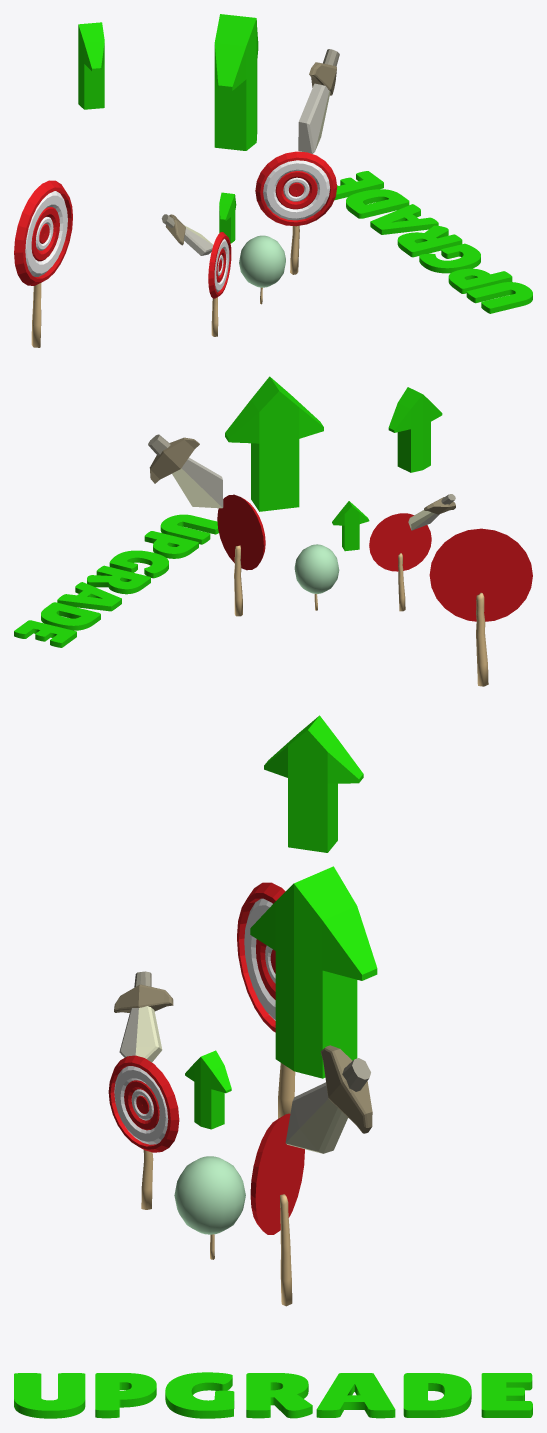
The model's file is Upgrade.fbx.
The picture shows the model from 3 angles, top to bottom: view 1: azimuth 30°, elevation 25°; view 2: azimuth 150°, elevation 25°; view 3: azimuth 270°, elevation 25°; orthographic projection. The views are drawn at different scales.
Visible parts, largest first — view 1: upgrade, arrow green, target2, target, sword2, arrow green.001, tree, target1, sword1, arrow green.002; view 2: target, upgrade, arrow green, sword2, target2, target1, arrow green.001, tree, arrow green.002, sword1; view 3: upgrade, arrow green, arrow green.001, sword2, target1, target2, target, tree, sword1, arrow green.002.
Boxes of the visible parts, box(x1,y1,x2,y2) form: upgrade: box(334, 171, 532, 313); arrow green: box(214, 14, 258, 150); target2: box(255, 151, 337, 274); target: box(14, 180, 72, 347); sword2: box(298, 49, 339, 153); arrow green.001: box(78, 22, 104, 109); tree: box(239, 235, 285, 304); target1: box(208, 232, 231, 336); sword1: box(161, 214, 213, 255); arrow green.002: box(219, 192, 236, 243); target: box(429, 528, 532, 686); upgrade: box(14, 514, 218, 647); arrow green: box(225, 376, 323, 511); sword2: box(148, 434, 223, 508); target2: box(217, 494, 265, 616); target1: box(369, 513, 431, 611); arrow green.001: box(388, 387, 442, 472); tree: box(294, 544, 339, 610); arrow green.002: box(332, 501, 369, 551); sword1: box(408, 494, 455, 530); upgrade: box(14, 1372, 532, 1418); arrow green: box(250, 866, 377, 1078); arrow green.001: box(264, 715, 363, 852); sword2: box(285, 1045, 372, 1153); target1: box(108, 1055, 179, 1209); target2: box(250, 1113, 304, 1306); target: box(237, 882, 295, 1118); tree: box(174, 1156, 245, 1259); sword1: box(114, 971, 173, 1062); arrow green.002: box(185, 1050, 231, 1129).
Bounding box in the file's own units: 10.25 × 6.55 × 6.79.
